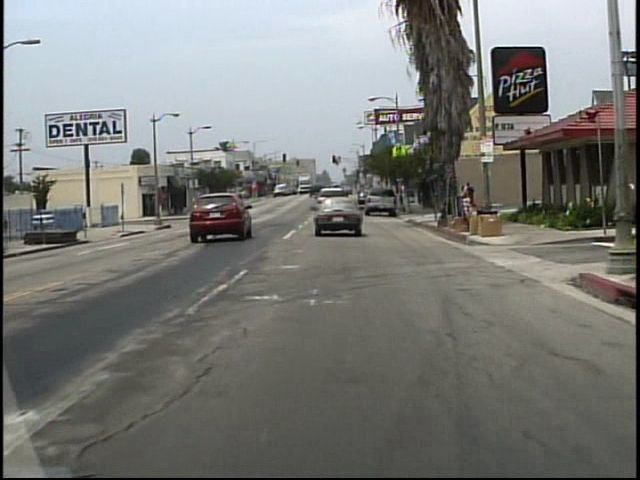person: (467, 181, 477, 212), (462, 183, 470, 208)
